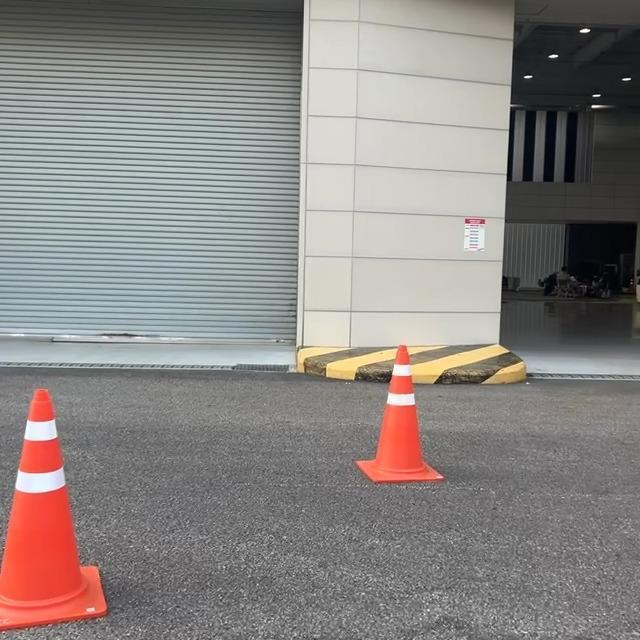fallen_object: (0, 360, 131, 640), (313, 327, 473, 514)
